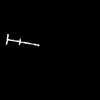double_crochet: (6, 35, 38, 45)
